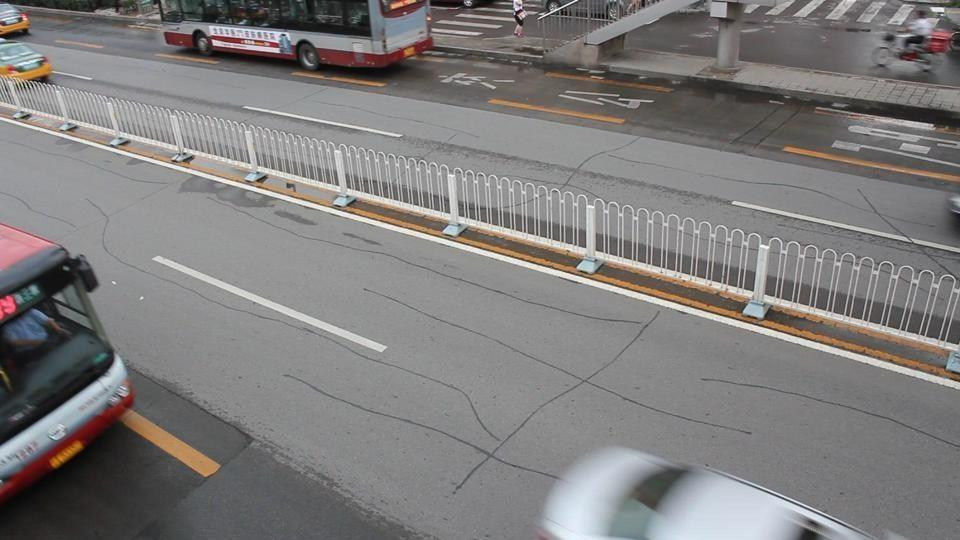car: (0, 217, 136, 506), (532, 447, 875, 537), (0, 41, 54, 83), (0, 2, 31, 38)
